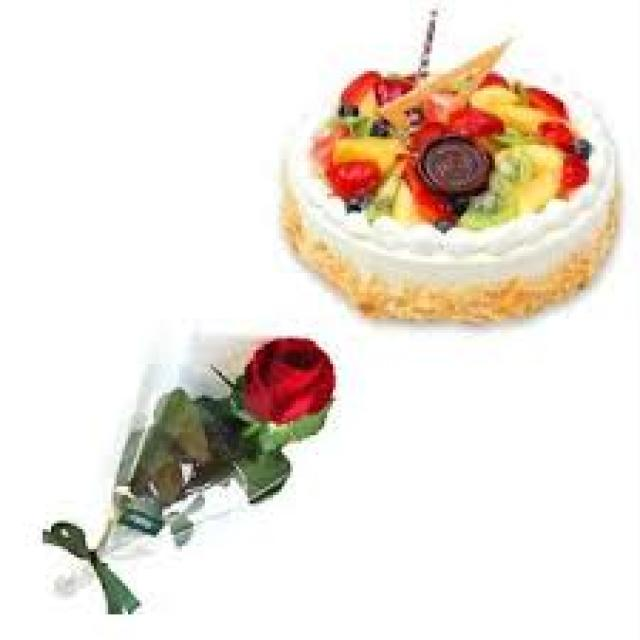Organik: (46, 316, 343, 637), (302, 50, 616, 336)
